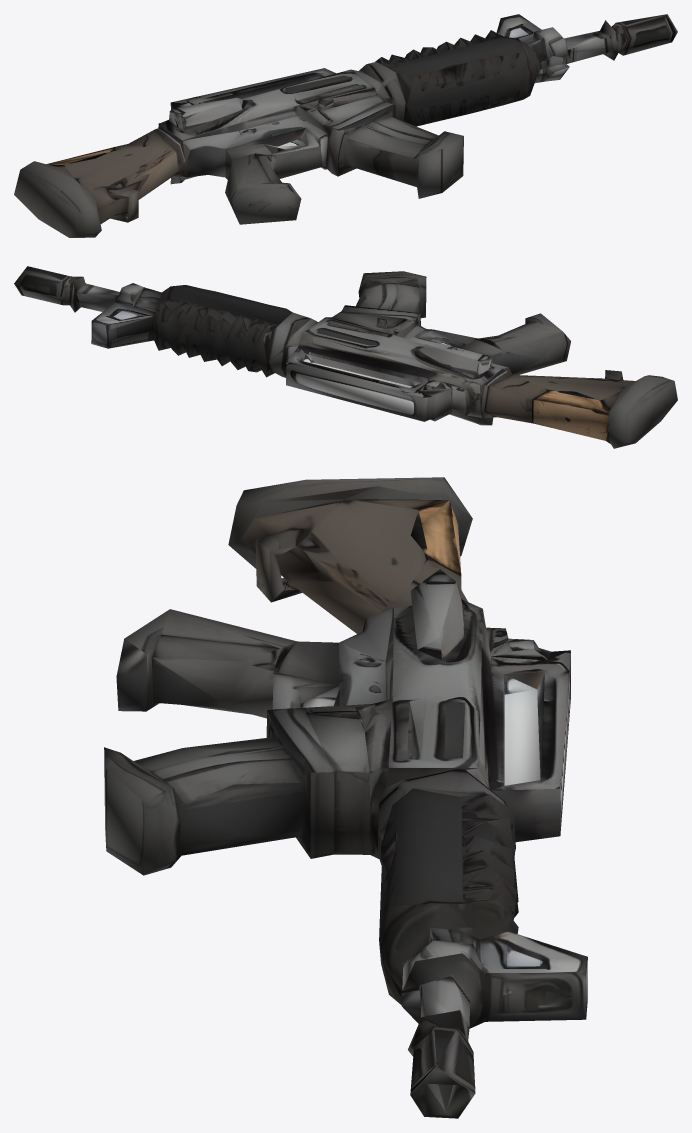
Rendered from 突击步枪-zero.fbx.
The picture shows the model from 3 angles, top to bottom: view 1: azimuth 30°, elevation 25°; view 2: azimuth 150°, elevation 25°; view 3: azimuth 270°, elevation 25°; orthographic projection. The views are drawn at different scales.
Parts seen in each view (by area): view 1: texture_pbr_v128; view 2: texture_pbr_v128; view 3: texture_pbr_v128.
Part boxes in pixels (left/top/right/bottom): texture_pbr_v128: left=14, top=14, right=677, bottom=237; texture_pbr_v128: left=14, top=266, right=677, bottom=448; texture_pbr_v128: left=104, top=477, right=587, bottom=1118.
Bounding box in the file's own units: 118 × 12.73 × 40.46.
Materials: 1 (1 with a texture image).
